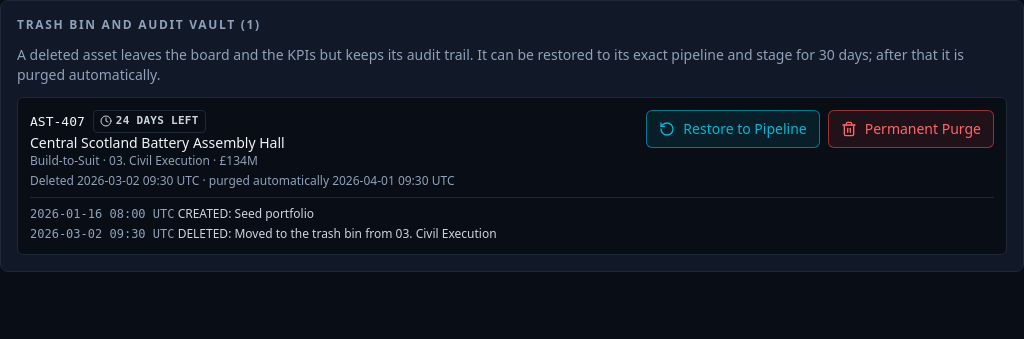
TrashView › reports a refused restore
Click the button with aria-label "Restore AST-407" at (733, 129), box [646,110,820,148]
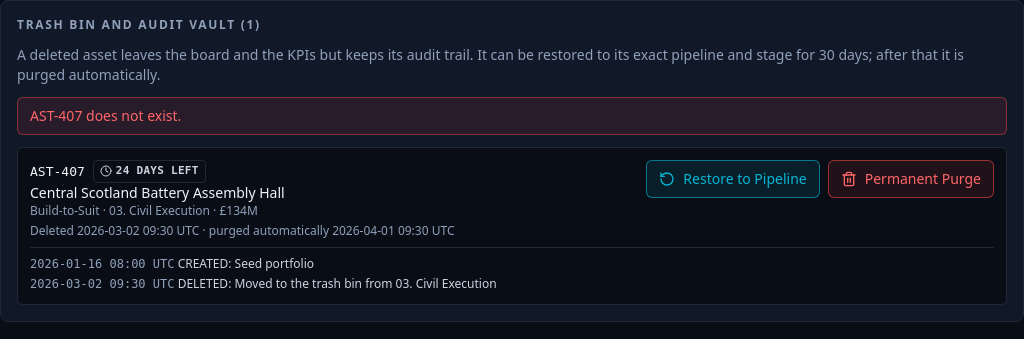
Expected: the message reads "AST-407 does not exist.", [30,106,181,125]
